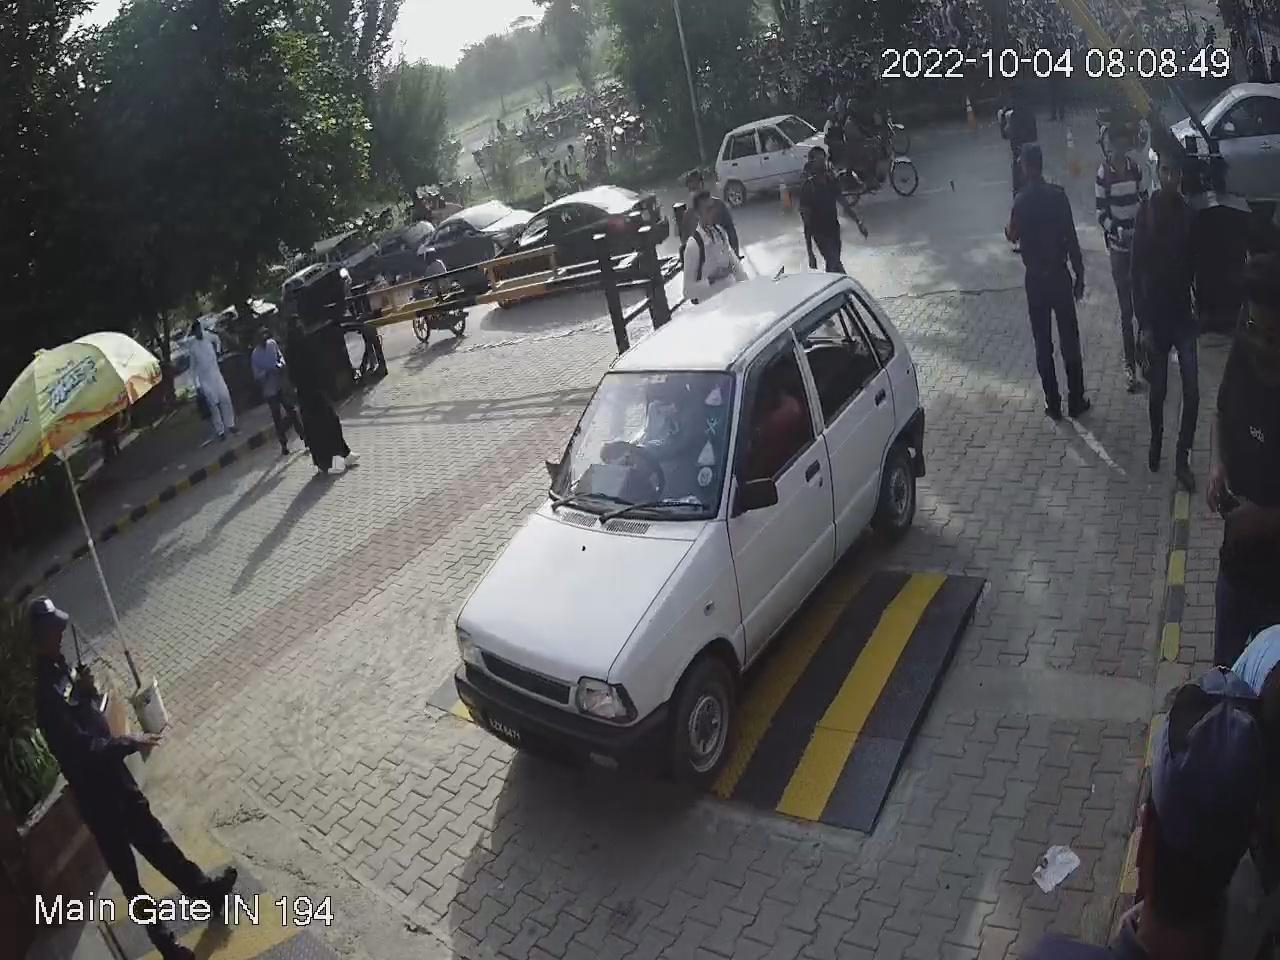windshield: (553, 365, 746, 525)
